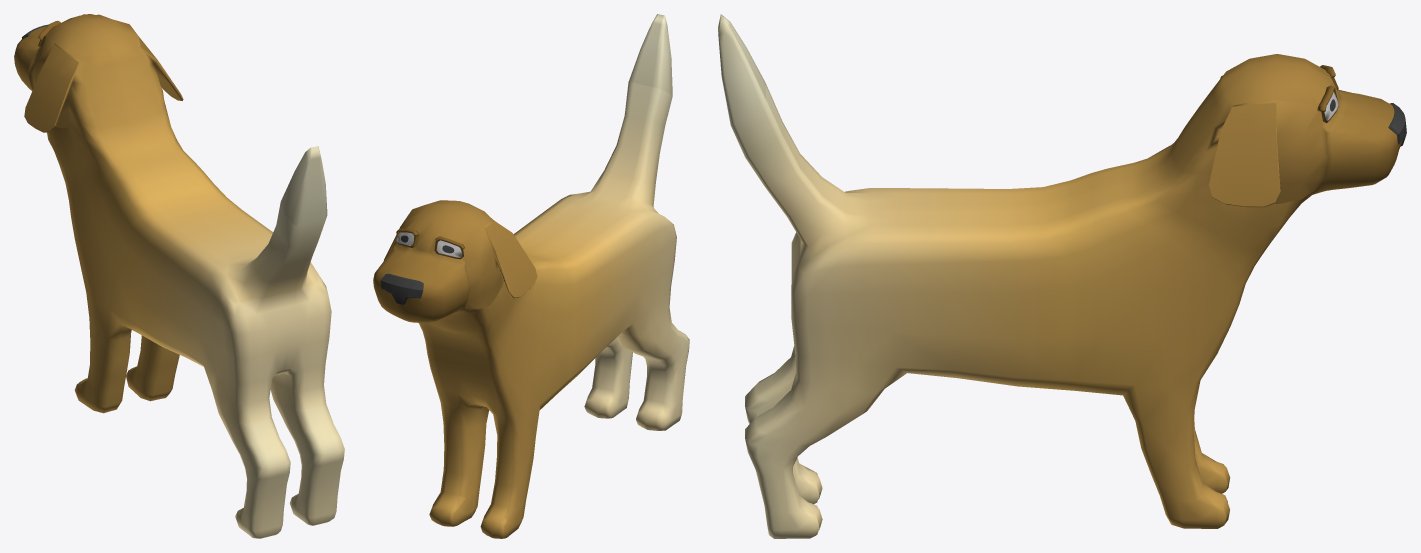
Rendered from dog.fbx.
The picture shows the model from 3 angles, left to right: view 1: azimuth 30°, elevation 25°; view 2: azimuth 150°, elevation 25°; view 3: azimuth 270°, elevation 25°; orthographic projection. The views are drawn at different scales.
Parts seen in each view (by area): view 1: pCube2; view 2: pCube2; view 3: pCube2.
Boxes of the visible parts, left/top/right/bottom form: pCube2: left=14, top=14, right=344, bottom=538; pCube2: left=373, top=14, right=689, bottom=538; pCube2: left=718, top=14, right=1406, bottom=538.
Bounding box in the file's own units: 0.8846 × 2.43 × 3.03.
